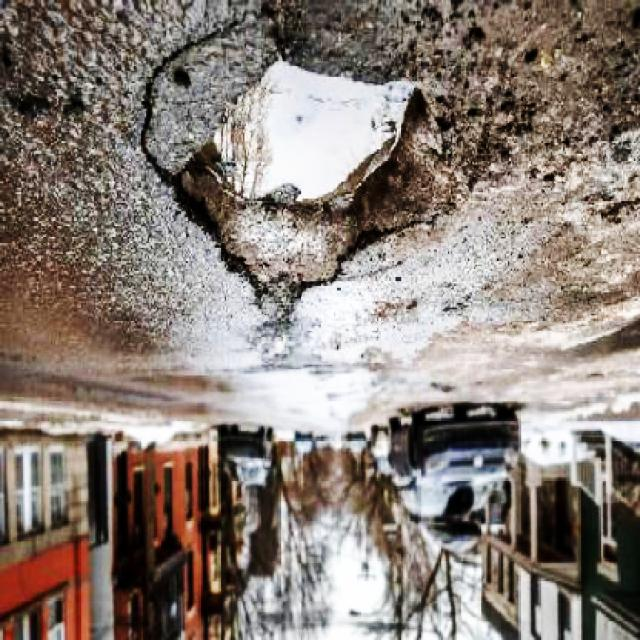pothole: (134, 4, 481, 330)
